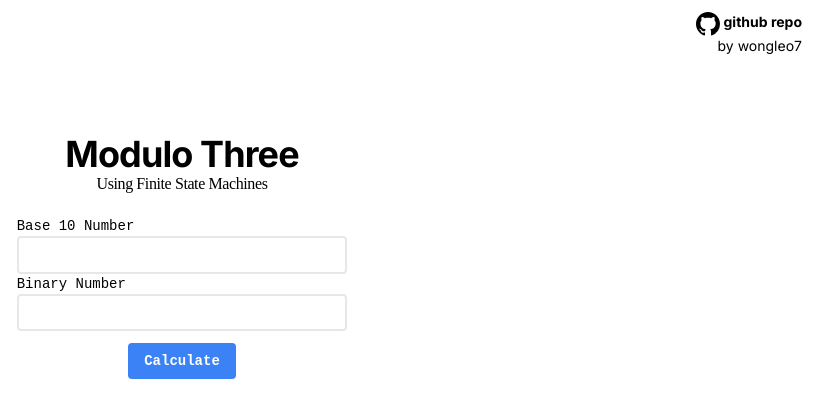
Test case: tests invalid alphabet on decimal
Step 1. Type "2a" into the number field with id "decimal-input" → (183, 255), box [17,236,348,274]
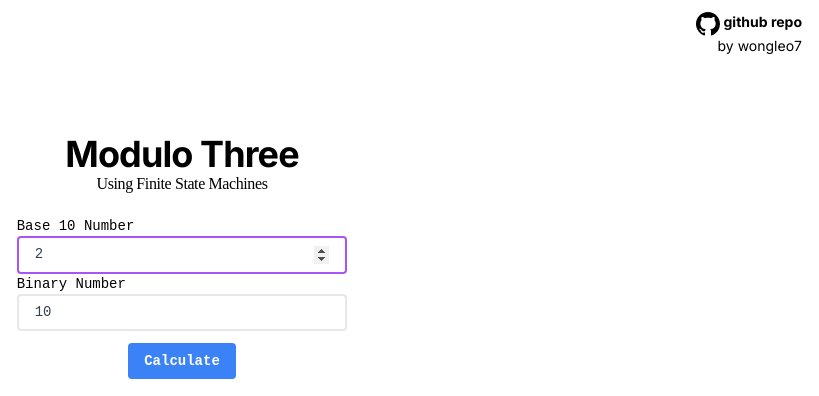
Now the number field with id "decimal-input" holds "2", box [17,236,348,274]
